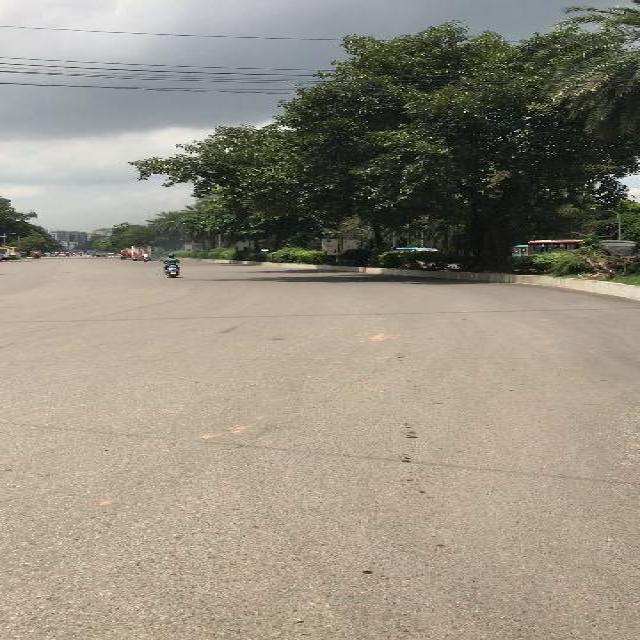bus: (524, 238, 580, 254), (130, 245, 151, 261), (5, 246, 18, 260)
motorcycle: (158, 252, 182, 277), (138, 252, 148, 262), (30, 251, 41, 259)
truck: (116, 247, 128, 258), (92, 248, 105, 255)
